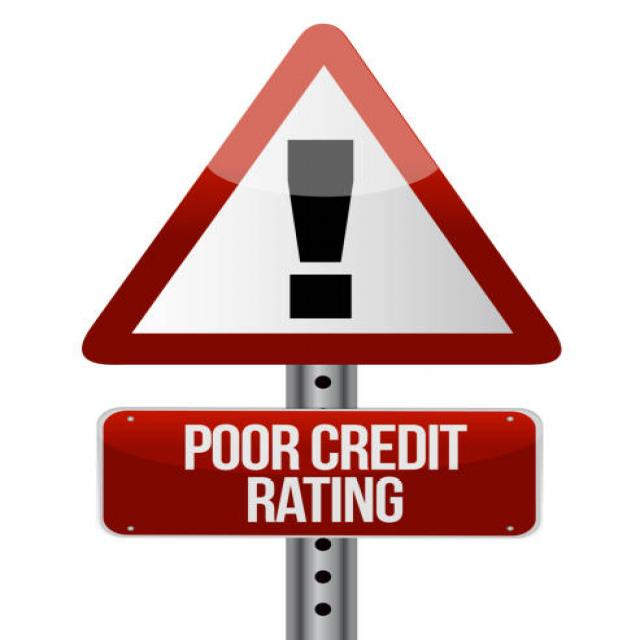warning: (69, 9, 583, 372)
